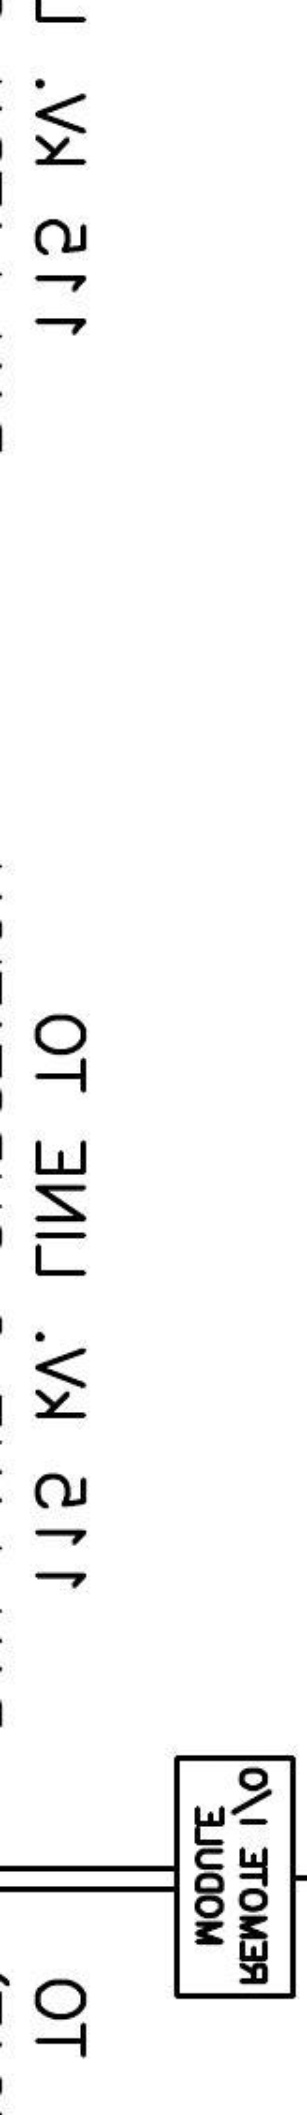remote_io_module: (172, 1755, 296, 2000)
